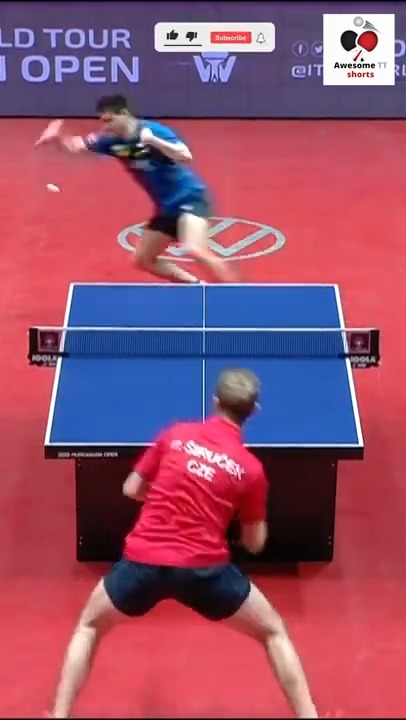Ball: (48, 182, 58, 194)
